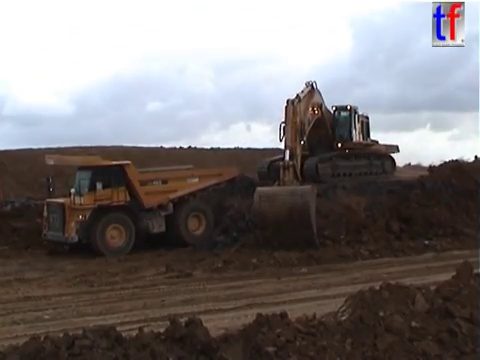excavator: (250, 77, 399, 251)
truck: (34, 151, 240, 258), (327, 137, 400, 168)
